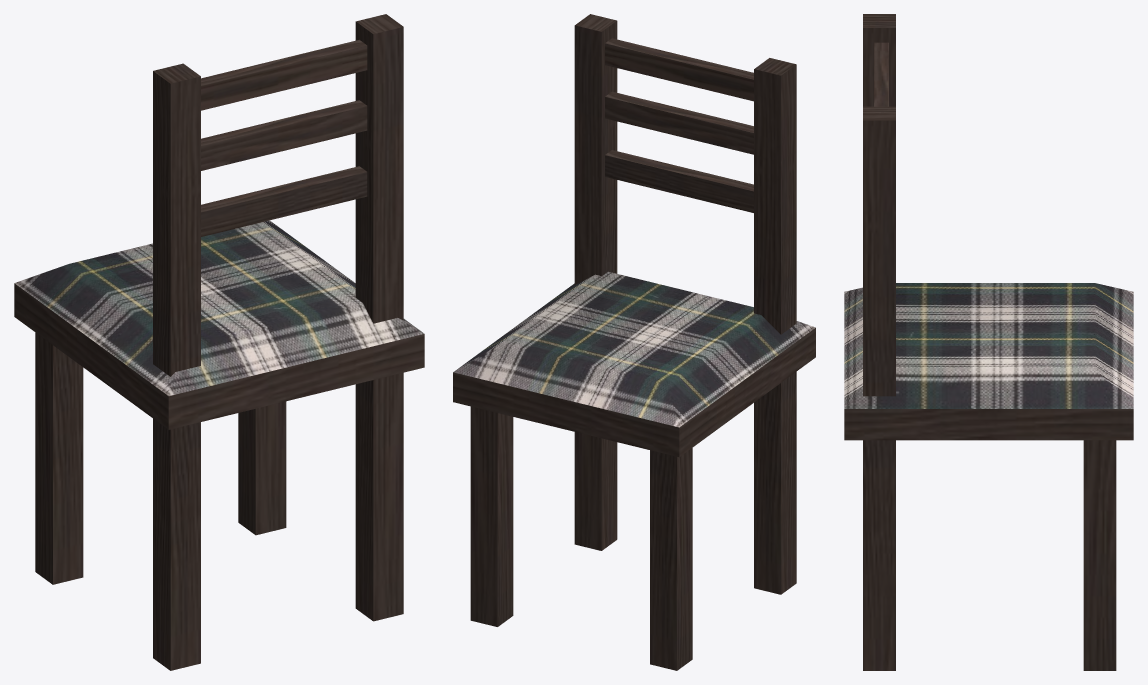
The model's file is chair.glb.
3 views of the same model, side by side, from view 1: azimuth 30°, elevation 25°; view 2: azimuth 150°, elevation 25°; view 3: azimuth 270°, elevation 25° (orthographic). The views are drawn at different scales.
Visible parts, largest first — view 1: Cube.225; view 2: Cube.225; view 3: Cube.225.
Boxes of the visible parts, x1,y1,x2,y2 form: Cube.225: (14,14,424,670); Cube.225: (453,14,815,670); Cube.225: (844,14,1133,670).
Size of the model in its own units: 1.06 by 2.32 by 1.11.
Materials: 2 (2 with a texture image).
